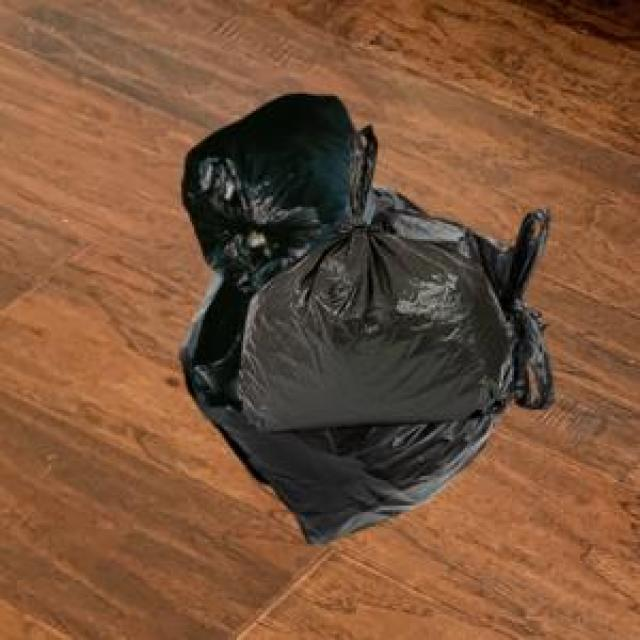Trashbag: (252, 217, 531, 426), (244, 423, 445, 529), (176, 123, 343, 225)
